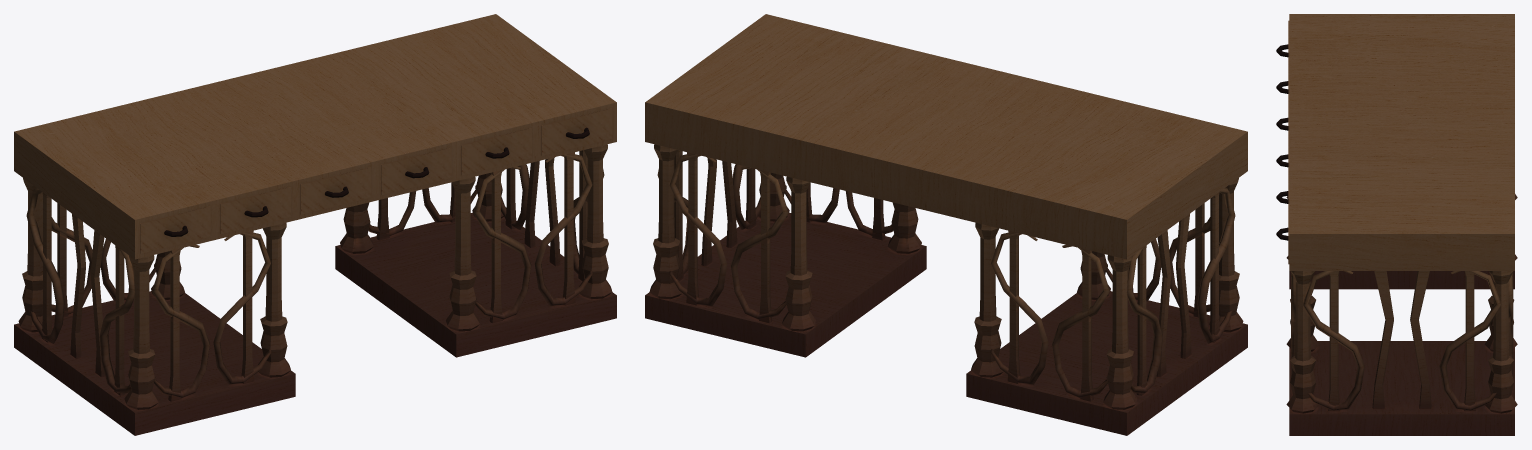
File: WorkTable.fbx
The picture shows the model from 3 angles, left to right: view 1: azimuth 30°, elevation 25°; view 2: azimuth 150°, elevation 25°; view 3: azimuth 270°, elevation 25°; orthographic projection. The views are drawn at different scales.
Parts seen in each view (by area): view 1: WorkTable; view 2: WorkTable; view 3: WorkTable.
Boxes of the visible parts, <box> form: WorkTable: <box>14,14,616,435</box>; WorkTable: <box>645,14,1247,435</box>; WorkTable: <box>1276,14,1517,435</box>.
Bounding box in the file's own units: 223 × 95.04 × 103.
Materials: 1 (1 with a texture image).
